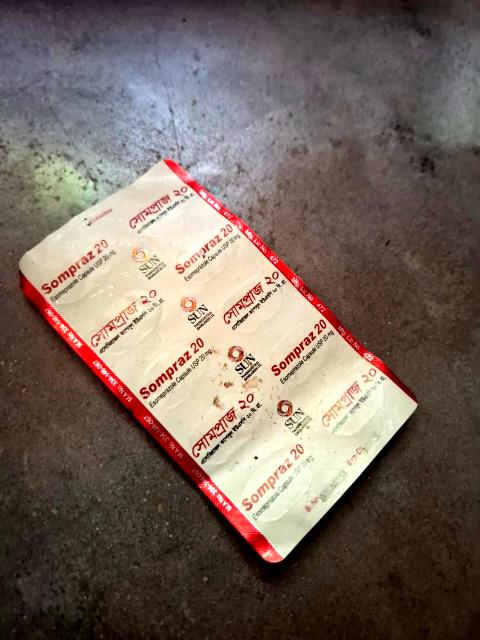medicine: (0, 134, 437, 567)
